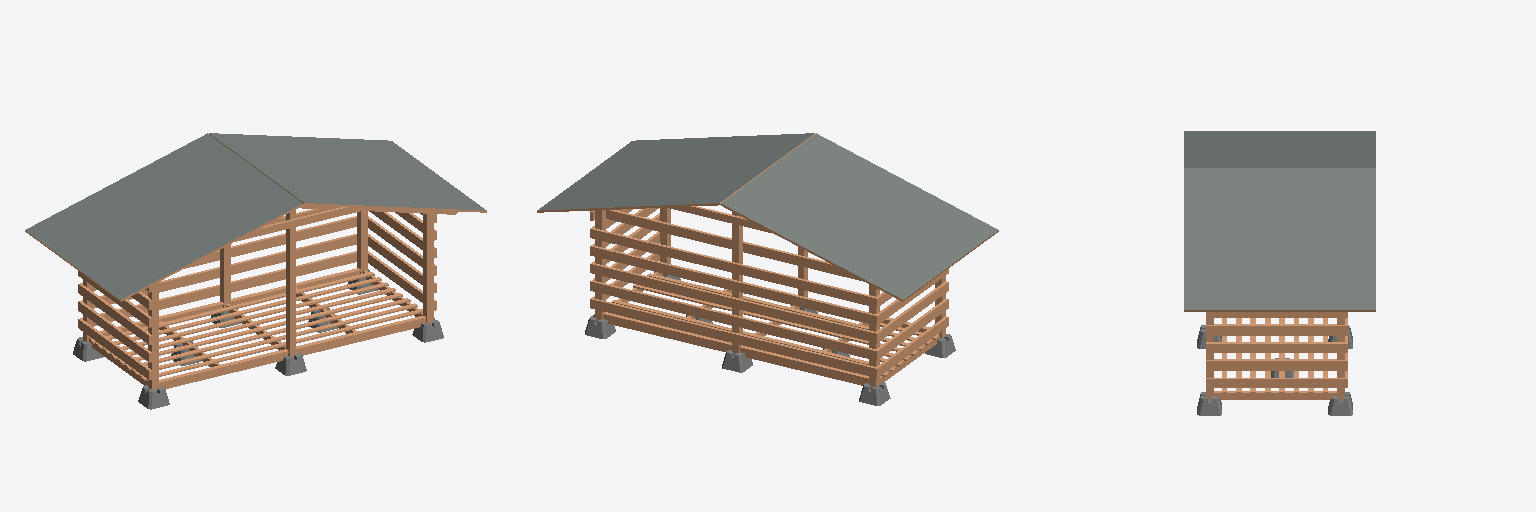
The model's file is woodshed.obj.
3 views of the same model, side by side, from view 1: azimuth 30°, elevation 25°; view 2: azimuth 150°, elevation 25°; view 3: azimuth 270°, elevation 25° (orthographic).
Visible parts, largest first — view 1: Solid2:2, Solid2:1, Solid1:39, Solid1:40, Solid1:41, Solid1:30, Solid1:34, Solid1:19, Solid1:20, Solid1:21, Solid1:22, Solid1:23 (+20 smaller); view 2: Solid2:2, Solid2:1, Solid1:40, Solid1:42, Solid1:43, Solid1:39, Solid1:41, Solid1:44, Solid1:22, Solid3:7, Solid3:8, Solid3:6 (+9 smaller); view 3: Solid2:1, Solid2:2, Solid3:1, Solid3:2, Solid3:4, Solid3, Solid1:10, Solid3:3.
Part boxes in pixels (x1,y1,x2,y2): Solid2:2: (25,133,303,301); Solid2:1: (209,133,486,212); Solid1:39: (82,251,356,325); Solid1:40: (82,234,356,307); Solid1:41: (82,216,356,290); Solid1:30: (286,210,295,357); Solid1:34: (423,214,433,325); Solid1:19: (141,309,422,380); Solid1:20: (134,303,417,374); Solid1:21: (127,298,410,369); Solid1:22: (119,293,402,364); Solid1:23: (112,288,395,359); Solid2:2: (720,133,998,301); Solid2:1: (537,133,814,212); Solid1:40: (593,281,875,359); Solid1:42: (593,246,875,324); Solid1:43: (593,228,874,306); Solid1:39: (593,299,875,376); Solid1:41: (593,263,874,341); Solid1:44: (606,210,863,281); Solid1:22: (633,284,916,355); Solid3:7: (874,281,948,342); Solid3:8: (874,299,948,360); Solid3:6: (874,316,948,377); Solid2:1: (1184,168,1375,311); Solid2:2: (1184,131,1375,167); Solid3:1: (1206,342,1347,352); Solid3:2: (1206,360,1347,370); Solid3:4: (1206,325,1347,335); Solid3: (1206,378,1347,387); Solid1:10: (1214,391,1336,399); Solid3:3: (1206,312,1347,317).
Bounding box in the file's own units: 186 × 85.04 × 84.